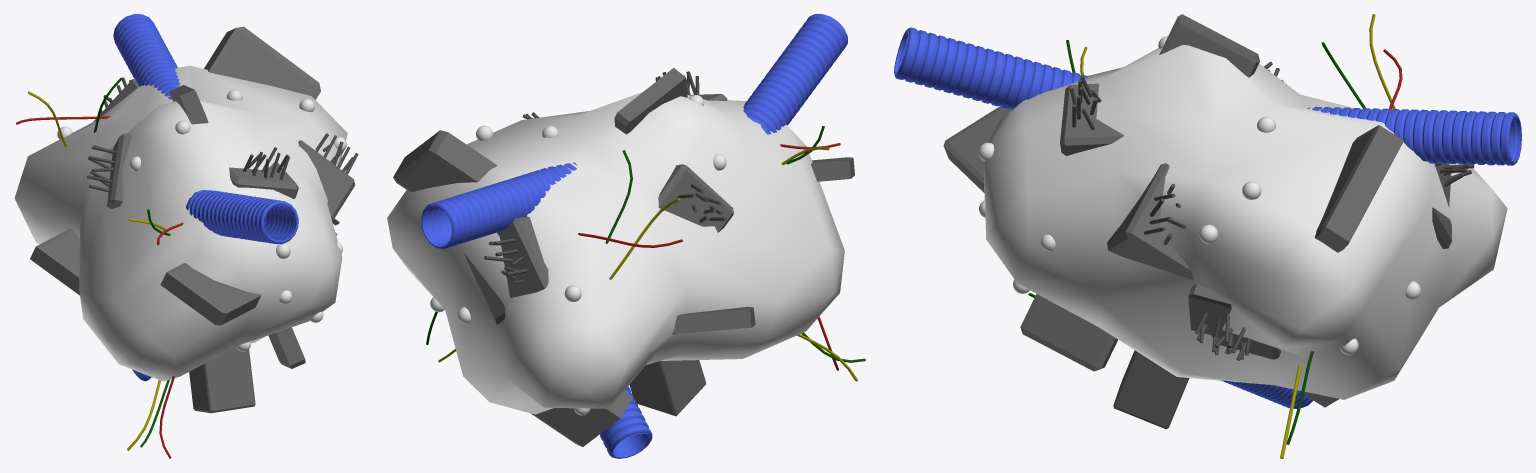
File: escombros.fbx
3 views of the same model, side by side, from view 1: azimuth 30°, elevation 25°; view 2: azimuth 150°, elevation 25°; view 3: azimuth 270°, elevation 25° (orthographic). The views are drawn at different scales.
Parts seen in each view (by area): view 1: Mball.013, Tubo, Cube.004, Cube.010, Tubo.001, Cube.002, Cube.011, Cube.001, Cube, Cube.007, Cube.003, Cube.005 (+1 smaller); view 2: Mball.013, Tubo.001, Tubo, Cube.004, Cube.008, Cube.010, Cube.007, Cube.009, Cube.005, Tubo.002, Cube.011, Cube.002; view 3: Mball.013, Tubo, Tubo.001, Cube.004, Cube.003, Cube.001, Cube.010, Cube.005, Cube, Cube.002, Cube.006, Tubo.002 (+1 smaller).
Boxes of the visible parts, x1,y1,x2,y2 form: Mball.013: (14, 65, 347, 381); Tubo: (186, 190, 298, 244); Cube.004: (204, 26, 320, 99); Cube.010: (189, 347, 255, 413); Tubo.001: (113, 14, 180, 99); Cube.002: (160, 263, 261, 325); Cube.011: (30, 228, 79, 295); Cube.001: (298, 140, 355, 221); Cube: (229, 162, 298, 199); Cube.007: (107, 133, 131, 208); Cube.003: (268, 327, 305, 368); Cube.005: (169, 85, 208, 124); Mball.013: (387, 92, 844, 414); Tubo.001: (421, 162, 577, 249); Tubo: (743, 14, 847, 134); Cube.004: (393, 130, 497, 191); Cube.008: (464, 216, 548, 324); Cube.010: (629, 360, 706, 416); Cube.007: (658, 164, 733, 232); Cube.009: (531, 391, 632, 446); Cube.005: (614, 68, 687, 134); Tubo.002: (600, 386, 652, 458); Cube.011: (672, 306, 755, 334); Cube.002: (811, 157, 854, 181); Mball.013: (984, 45, 1507, 399); Tubo: (894, 27, 1088, 109); Tubo.001: (1307, 106, 1521, 165); Cube.004: (1314, 125, 1403, 252); Cube.003: (1020, 294, 1117, 371); Cube.001: (1107, 163, 1193, 279); Cube.010: (1113, 350, 1189, 429); Cube.005: (1159, 14, 1259, 77); Cube: (1060, 83, 1123, 155); Cube.002: (943, 106, 1010, 192); Cube.006: (1188, 284, 1280, 359); Tubo.002: (1221, 380, 1313, 408).
Bounding box in the file's own units: 586 × 577 × 836.
